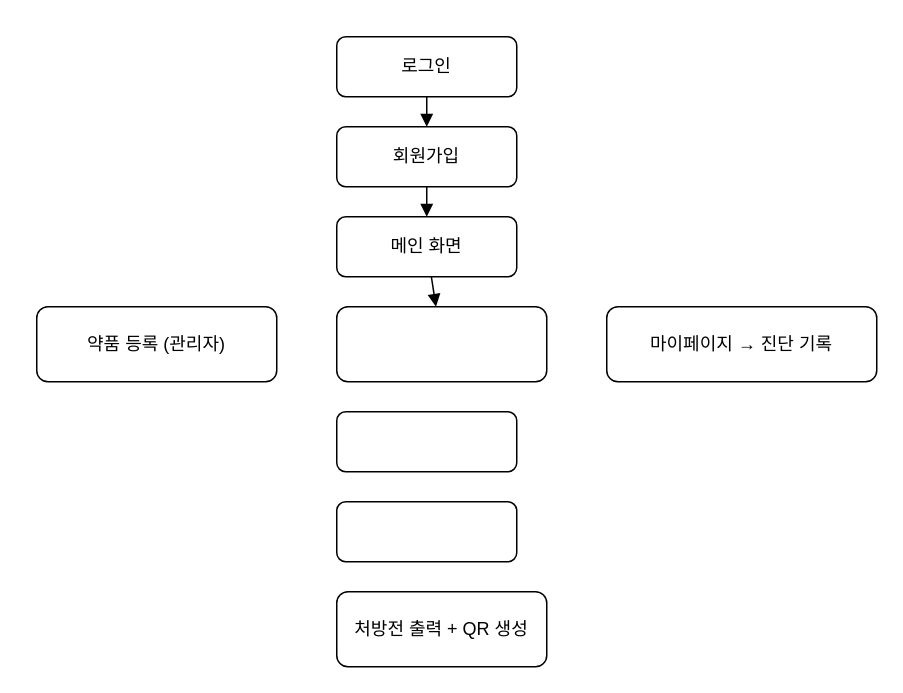
This 903x693 diagram has some shape labels left out. Each missing label, with the centre of its shape:
GPT 진단결과 + 약품 추천: the point at 441,343
결제: the point at 426,531
장바구니: the point at 426,441
